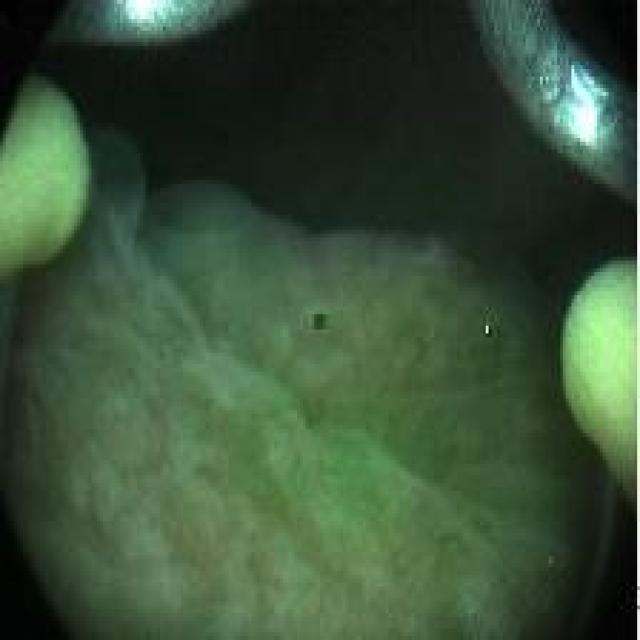color misalignment: (308, 305, 326, 337)
contrast: (63, 13, 624, 293)
instrument: (481, 14, 637, 198), (1, 71, 95, 293), (564, 248, 634, 523), (46, 0, 248, 52)
specularity: (566, 70, 609, 151), (123, 7, 173, 21)
